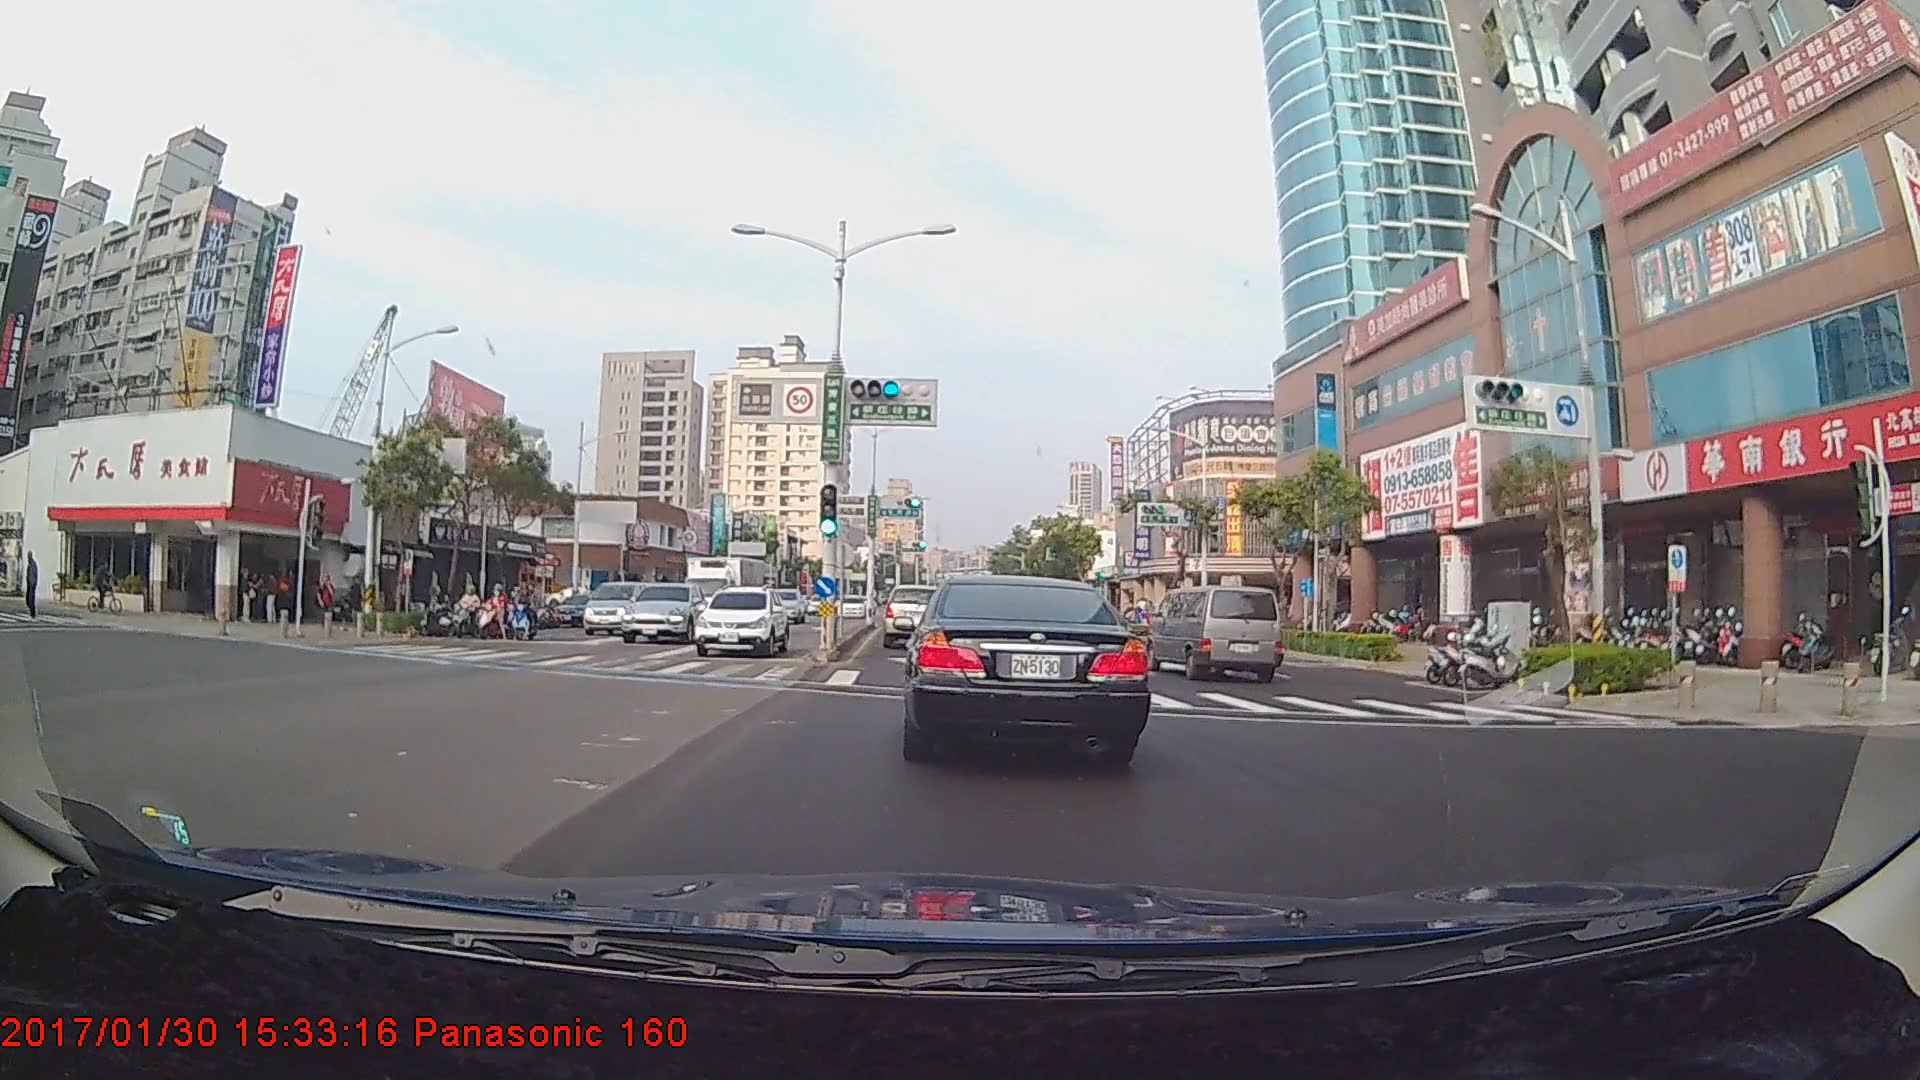pedestrian: (22, 548, 42, 620), (260, 570, 283, 628), (315, 575, 337, 631), (240, 566, 260, 627)
rider: (503, 584, 545, 644), (83, 567, 132, 616), (470, 581, 509, 640), (451, 583, 488, 642)
vehicle: (904, 569, 1143, 764), (1149, 585, 1282, 682), (682, 551, 767, 636), (693, 589, 790, 656), (619, 582, 699, 644), (879, 580, 946, 646), (581, 578, 645, 634)
